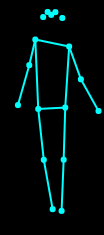mountain: (12, 5, 104, 217)
